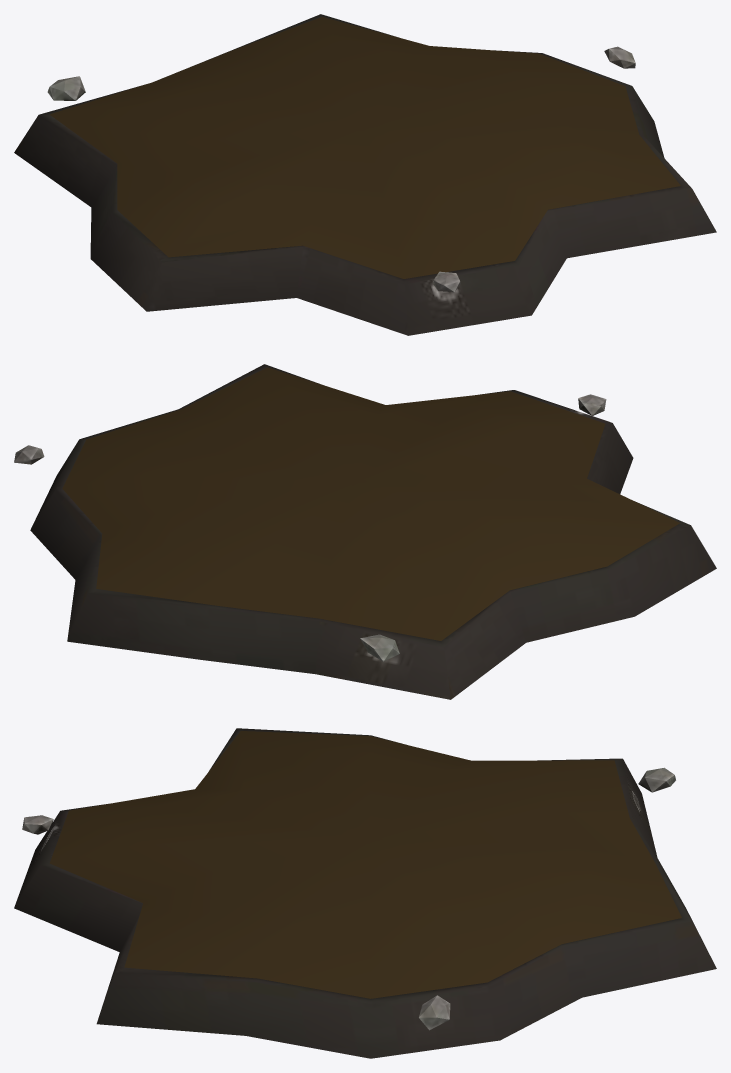
The model's file is poca_seiva.glb.
The picture shows the model from 3 angles, top to bottom: view 1: azimuth 30°, elevation 25°; view 2: azimuth 150°, elevation 25°; view 3: azimuth 270°, elevation 25°; orthographic projection. The views are drawn at different scales.
Parts seen in each view (by area): view 1: poca_seiva_corpo; view 2: poca_seiva_corpo; view 3: poca_seiva_corpo.
Boxes of the visible parts, x1=… form: poca_seiva_corpo: x1=14, y1=14, x2=716, y2=335; poca_seiva_corpo: x1=14, y1=364, x2=716, y2=699; poca_seiva_corpo: x1=14, y1=728, x2=716, y2=1058.
Bounding box in the file's own units: 0.7944 × 0.084 × 0.7806.
Materials: 2 (1 with a texture image).
